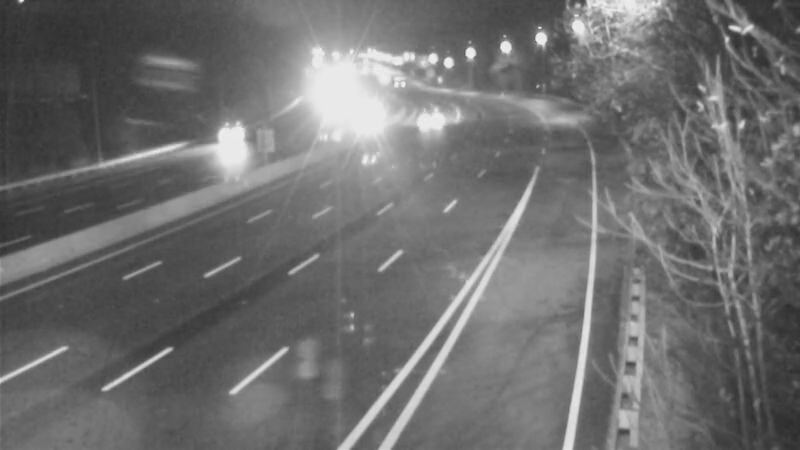vehicle: (374, 60, 424, 110), (399, 100, 449, 150), (197, 113, 247, 163), (342, 93, 392, 143)
